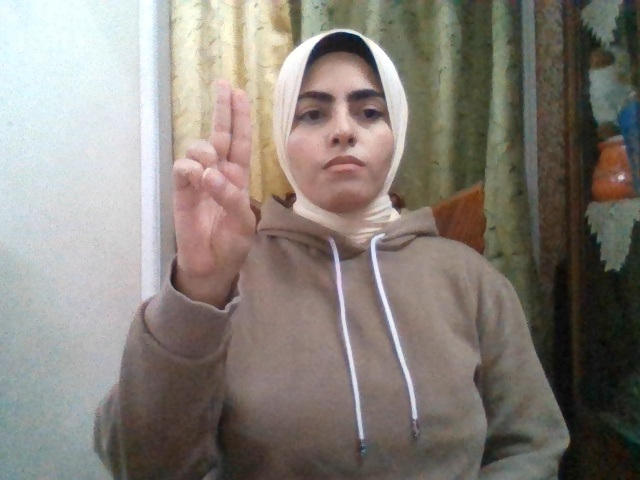U: (172, 79, 255, 277)
